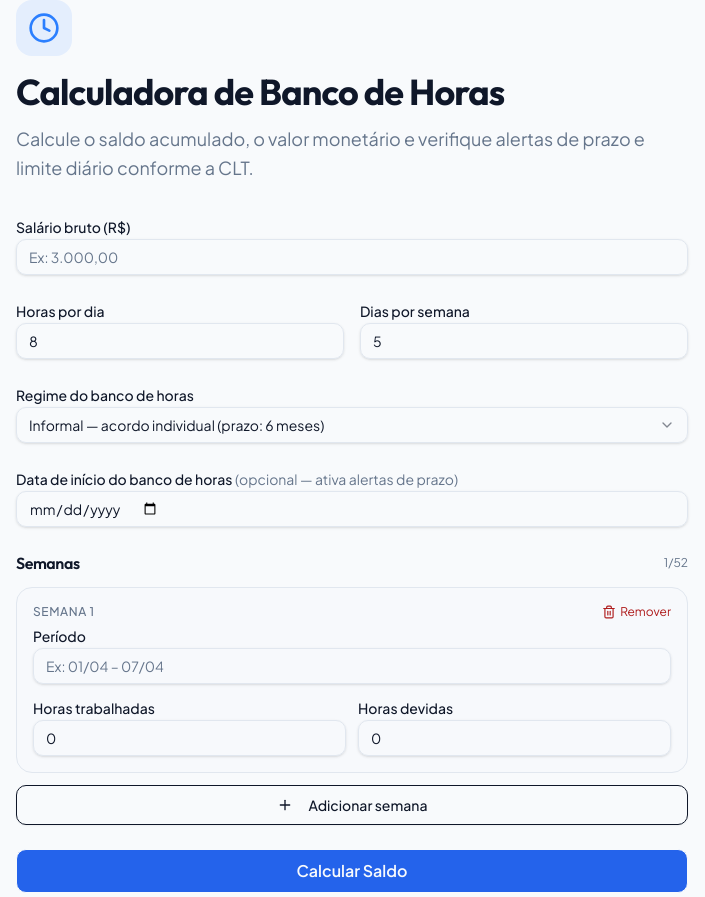
Test case: BancoDeHorasPage — lista dinâmica de semanas (Task 4.2) › botão remover exclui a linha correspondente
The width and height of the screenshot is (705, 897).
// Add a second row
Click the button "Adicionar semana" at (352, 804), box [16,784,688,824]
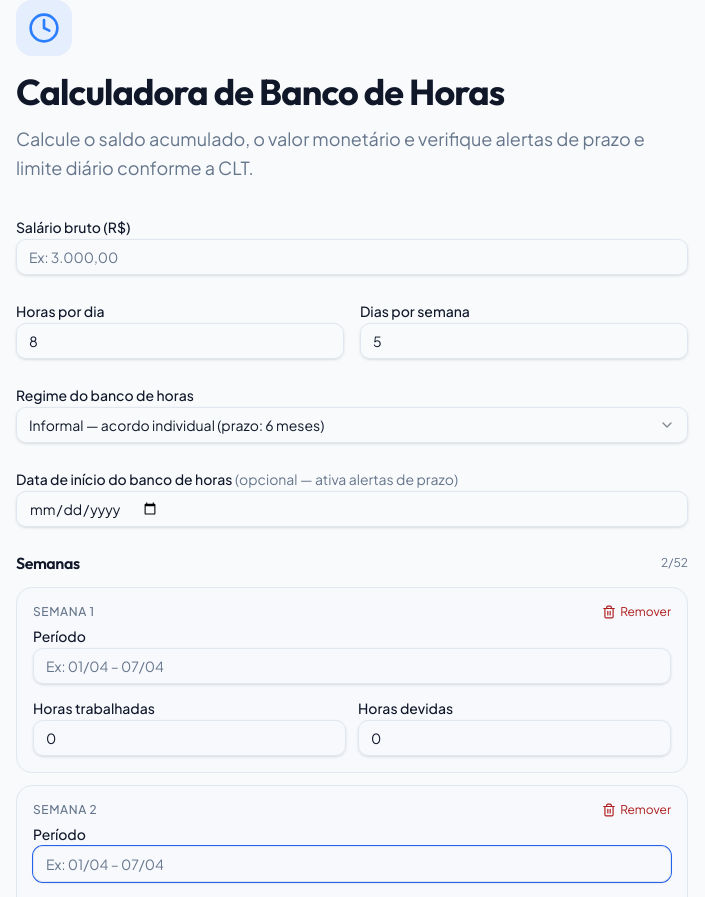
// Remove the first row
Click the button with aria-label "remover semana" at (637, 612), box [602,604,671,620]
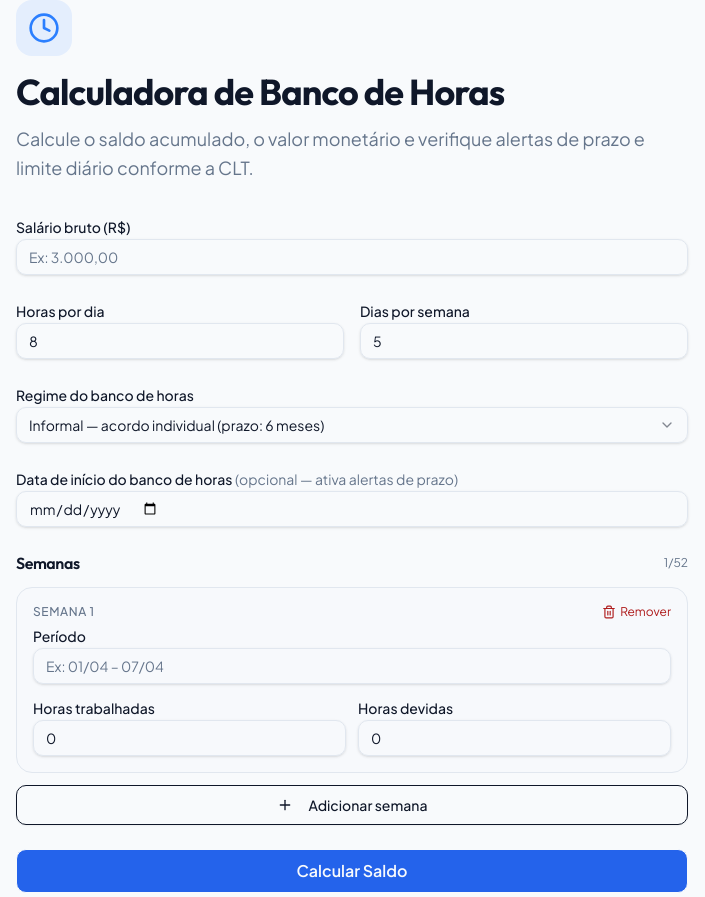
Expected: the number of elements with test id "semana-row" is 1, [16,586,688,772]
